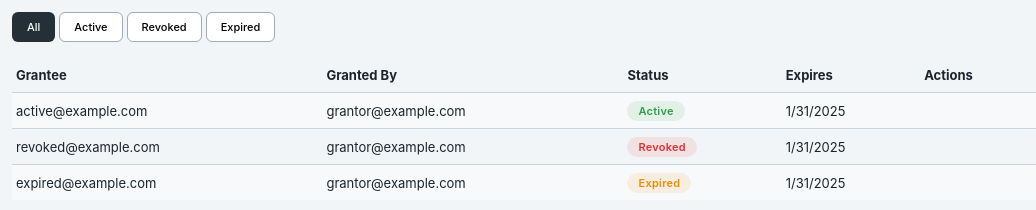
Test: EditGrantsList › Status filtering › should filter to active grants only
Click the button with test id "filter-active" at [91, 27], box [59, 12, 122, 42]
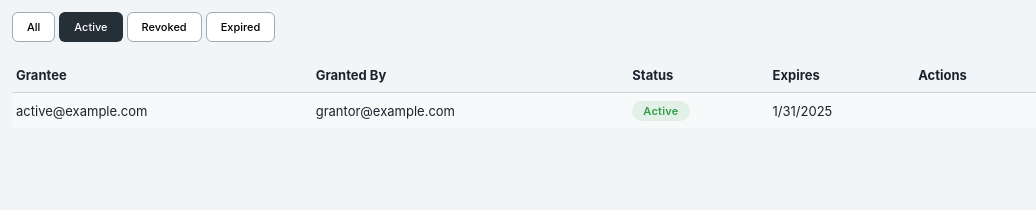
Check: the row with test id "edit-grant-row-active-1" is shown, box [12, 93, 1035, 128]
Check: the row with test id "edit-grant-row-revoked-1" is gone
Check: the row with test id "edit-grant-row-expired-1" is gone
